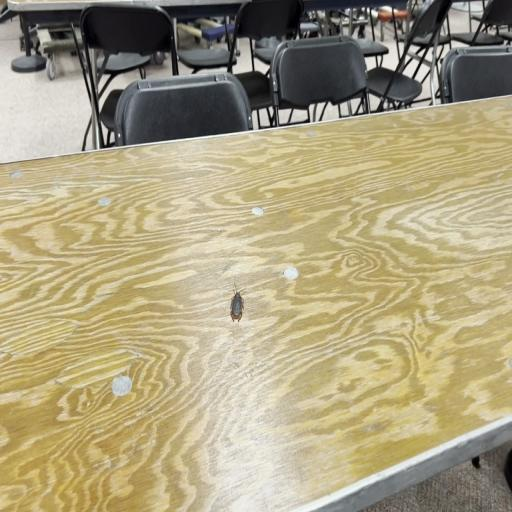cockroach: (229, 281, 245, 322)
